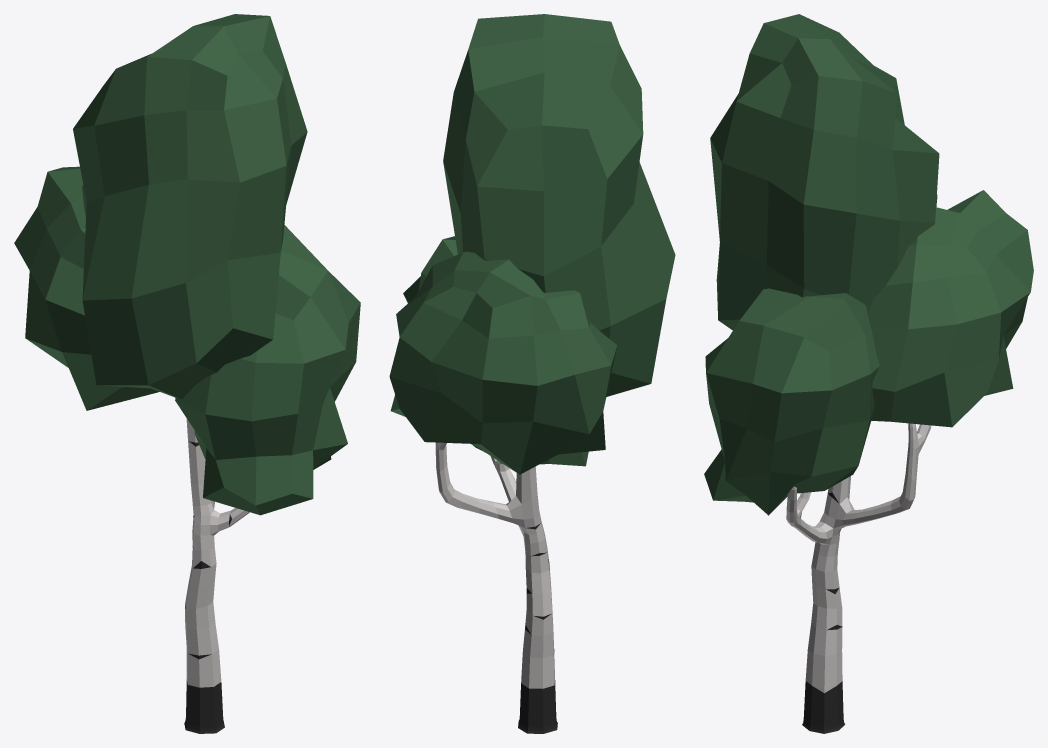
File: birch.002.fbx
The picture shows the model from 3 angles, left to right: view 1: azimuth 30°, elevation 25°; view 2: azimuth 150°, elevation 25°; view 3: azimuth 270°, elevation 25°; orthographic projection. The views are drawn at different scales.
Visible parts, largest first — view 1: birch.002; view 2: birch.002; view 3: birch.002.
Boxes of the visible parts, x1,y1,x2,y2 form: birch.002: [14, 14, 360, 733]; birch.002: [389, 14, 675, 733]; birch.002: [704, 14, 1033, 733].
Bounding box in the file's own units: 1.57 × 4.09 × 1.77.
